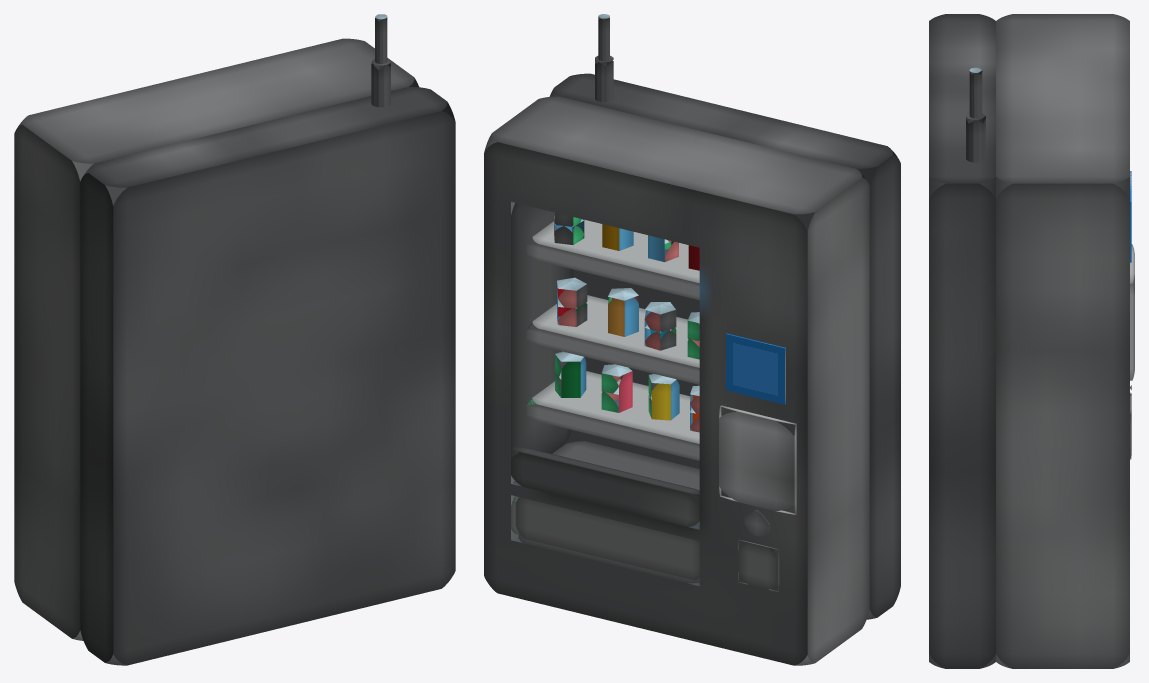
Rendered from avtomat.fbx.
3 views of the same model, side by side, from view 1: azimuth 30°, elevation 25°; view 2: azimuth 150°, elevation 25°; view 3: azimuth 270°, elevation 25° (orthographic). The views are drawn at different scales.
Parts seen in each view (by area): view 1: cylinder; view 2: cylinder, cuboid_1; view 3: cylinder.
Boxes of the visible parts, <box> form: cylinder: <box>14,14,455,665</box>; cylinder: <box>484,14,900,665</box>; cuboid_1: <box>726,333,785,404</box>; cylinder: <box>929,14,1134,668</box>.
Size of the model in its own units: 37.5 by 59.06 by 19.22.
Materials: 3 (3 with a texture image).
